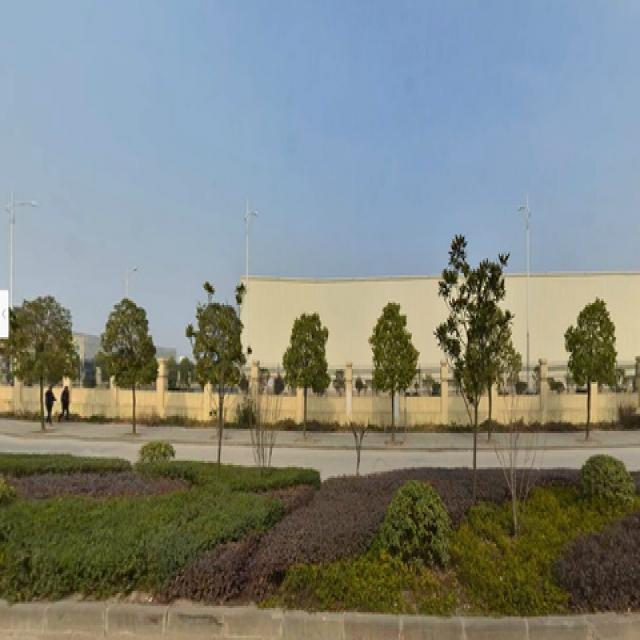cinn: (18, 303, 62, 429), (364, 301, 409, 424), (571, 299, 608, 446), (113, 303, 151, 435), (289, 316, 324, 426)
magn: (444, 256, 485, 484)
